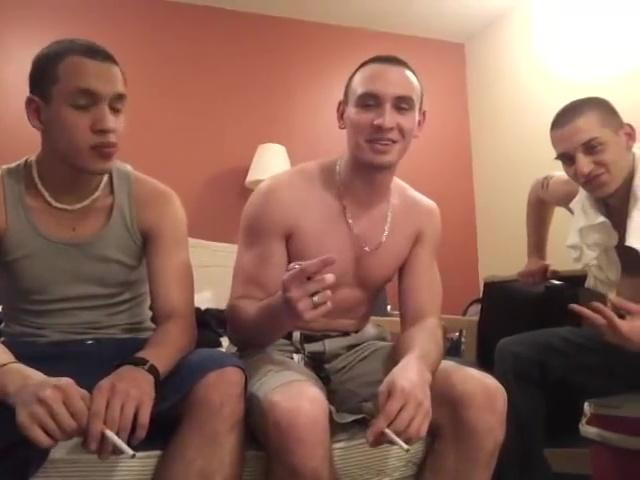cigarette: (100, 425, 137, 462), (380, 423, 413, 453)
